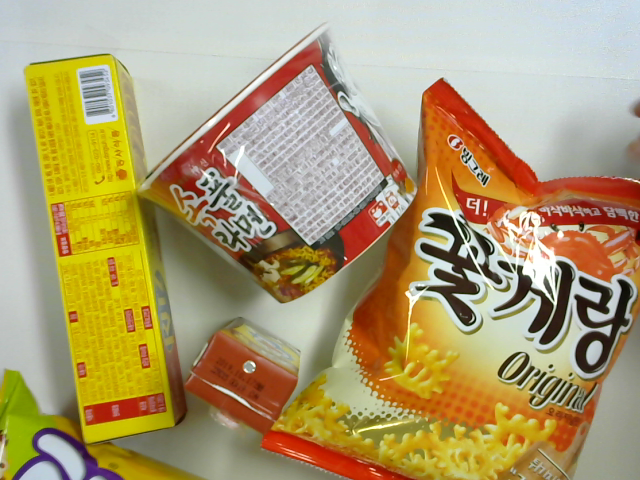Banana_Kick: (1, 362, 236, 479)
Choco_E_Mong: (185, 301, 296, 442)
Crabrang: (318, 117, 600, 480)
Hejangpul: (124, 27, 416, 269)
Ritz_Remon_96g: (43, 48, 173, 442)
